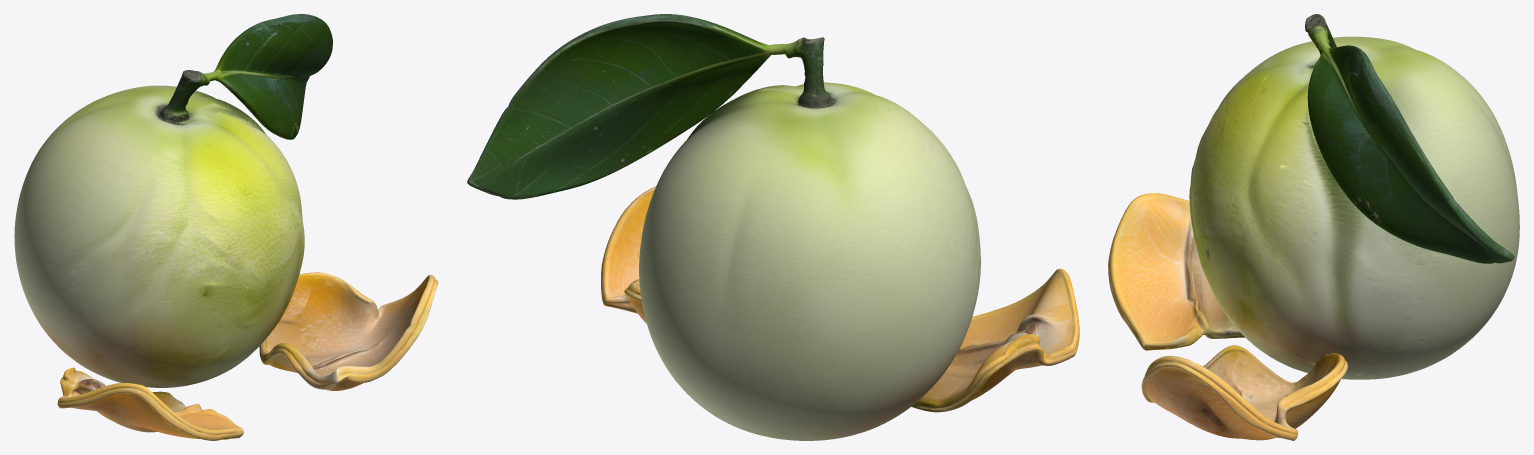
The model's file is juhong.glb.
3 renders of one model, left to right at view 1: azimuth 30°, elevation 25°; view 2: azimuth 150°, elevation 25°; view 3: azimuth 270°, elevation 25°, orthographic. The views are drawn at different scales.
Parts seen in each view (by area): view 1: node_0; view 2: node_0; view 3: node_0.
Boxes of the visible parts, x1,y1,x2,y2 form: node_0: (14, 14, 438, 440); node_0: (467, 14, 1079, 440); node_0: (1108, 14, 1519, 440).
Size of the model in its own units: 0.936 by 0.737 by 0.7609.
Materials: 1 (1 with a texture image).
